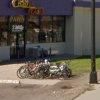Bicycle: (17, 53, 74, 82)
